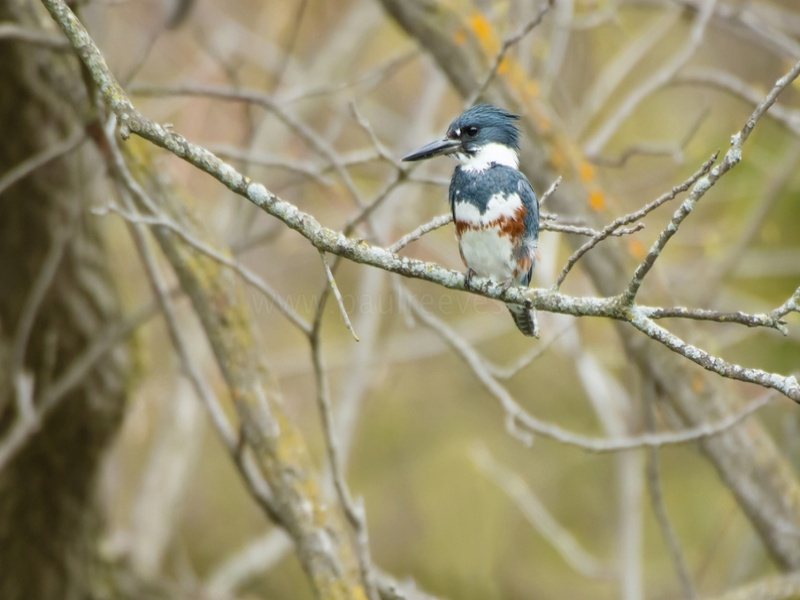kingfisher: (401, 102, 545, 337)
